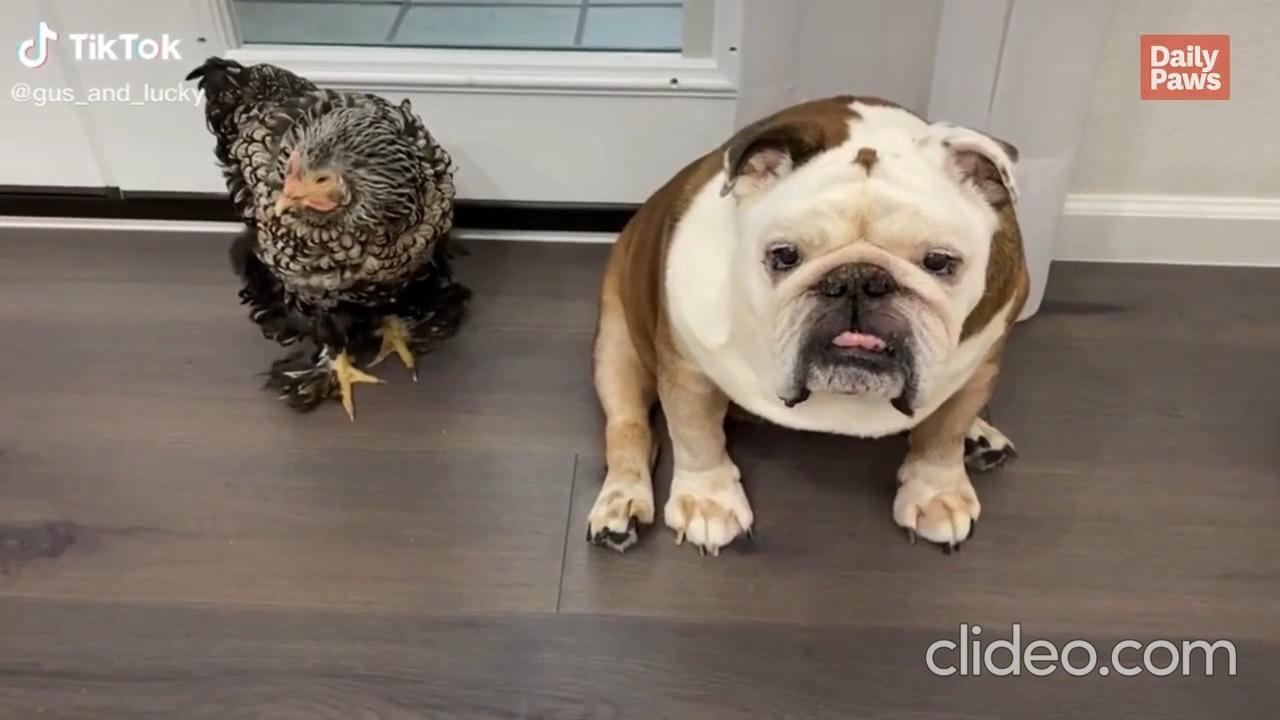Normal: (206, 122, 470, 417)
